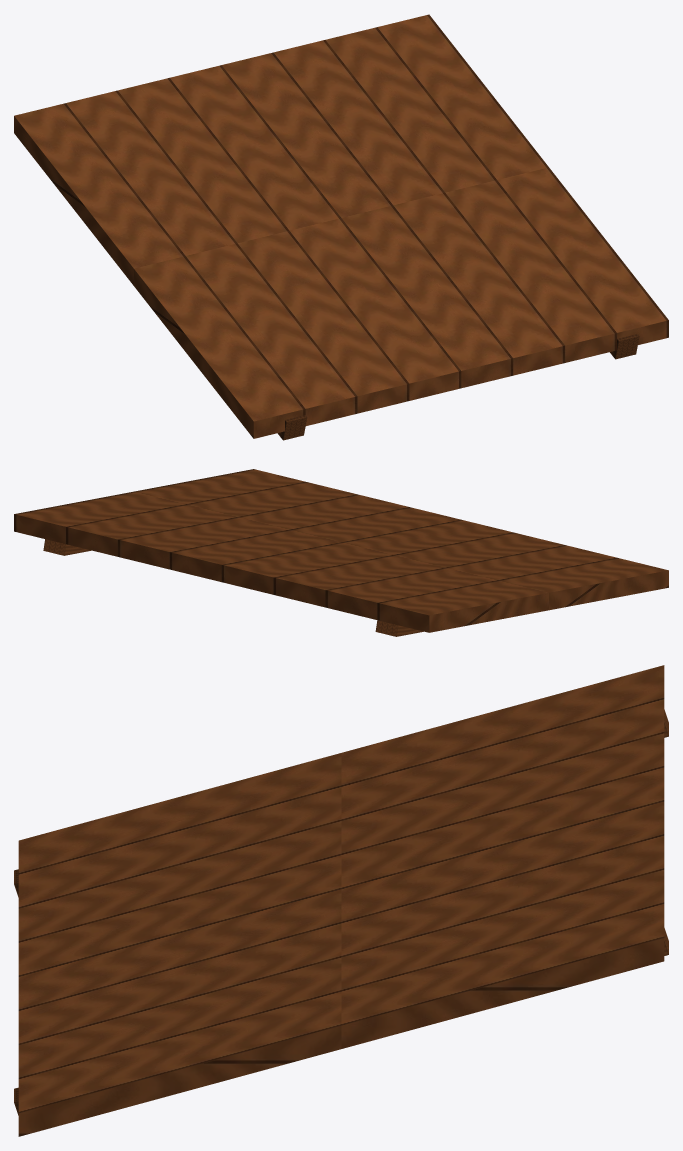
File: modular-survival-base-builder-access-ramp-a09354b2.glb
The picture shows the model from 3 angles, top to bottom: view 1: azimuth 30°, elevation 25°; view 2: azimuth 150°, elevation 25°; view 3: azimuth 270°, elevation 25°; orthographic projection. The views are drawn at different scales.
Parts seen in each view (by area): view 1: access-ramp; view 2: access-ramp; view 3: access-ramp.
Part boxes in pixels (<box>): access-ramp: <box>14,14,668,440</box>; access-ramp: <box>14,469,668,636</box>; access-ramp: <box>14,665,668,1136</box>.
Bounding box in the file's own units: 2 × 0.7279 × 2.03.
Materials: 1 (1 with a texture image).
